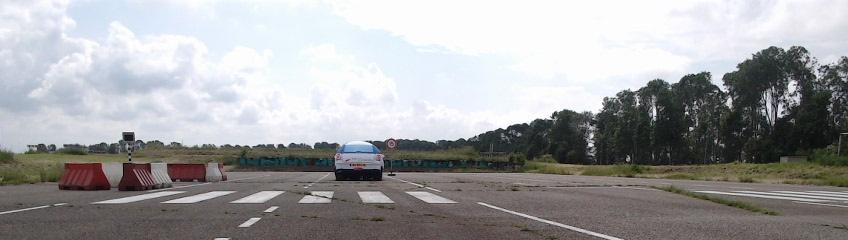Car: (335, 140, 386, 181)
Speed-limit-15km-h-: (387, 138, 397, 149)
